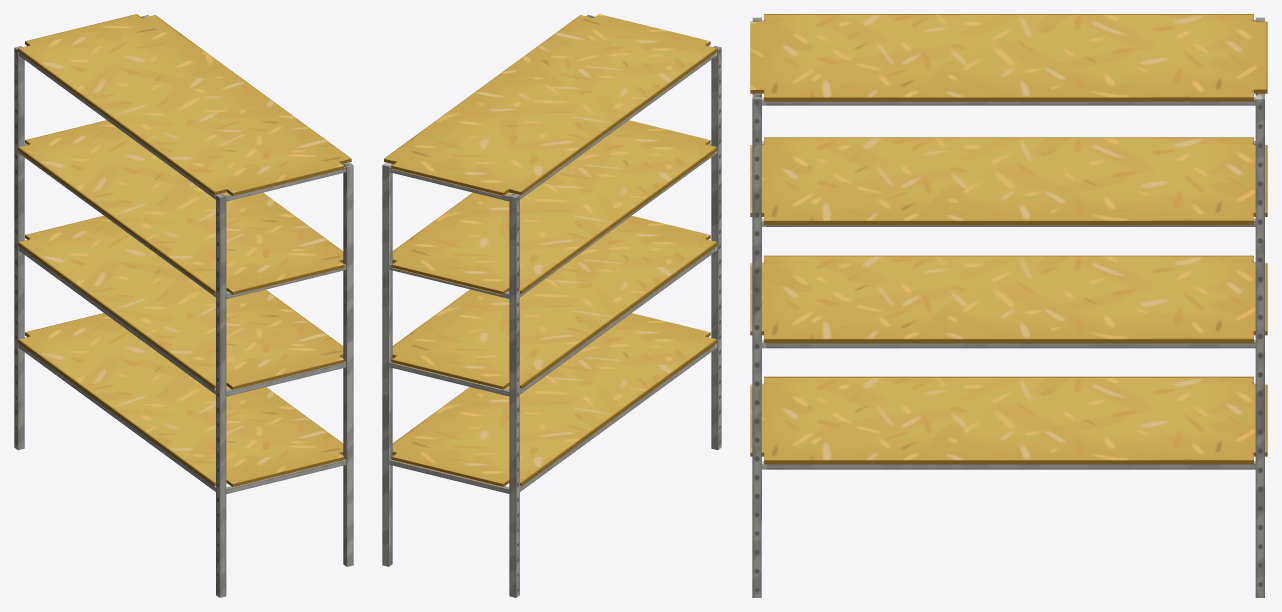
The model's file is ETAGERE.FBX.
The picture shows the model from 3 angles, left to right: view 1: azimuth 30°, elevation 25°; view 2: azimuth 150°, elevation 25°; view 3: azimuth 270°, elevation 25°; orthographic projection. The views are drawn at different scales.
Visible parts, largest first — view 1: Box065; view 2: Box065; view 3: Box065.
Part boxes in pixels (box(x1,y1,x2,y2)): Box065: box(14, 14, 353, 597); Box065: box(382, 14, 721, 597); Box065: box(750, 14, 1267, 597).
Size of the model in its own units: 132 by 368 by 344.
Materials: 1 (1 with a texture image).
